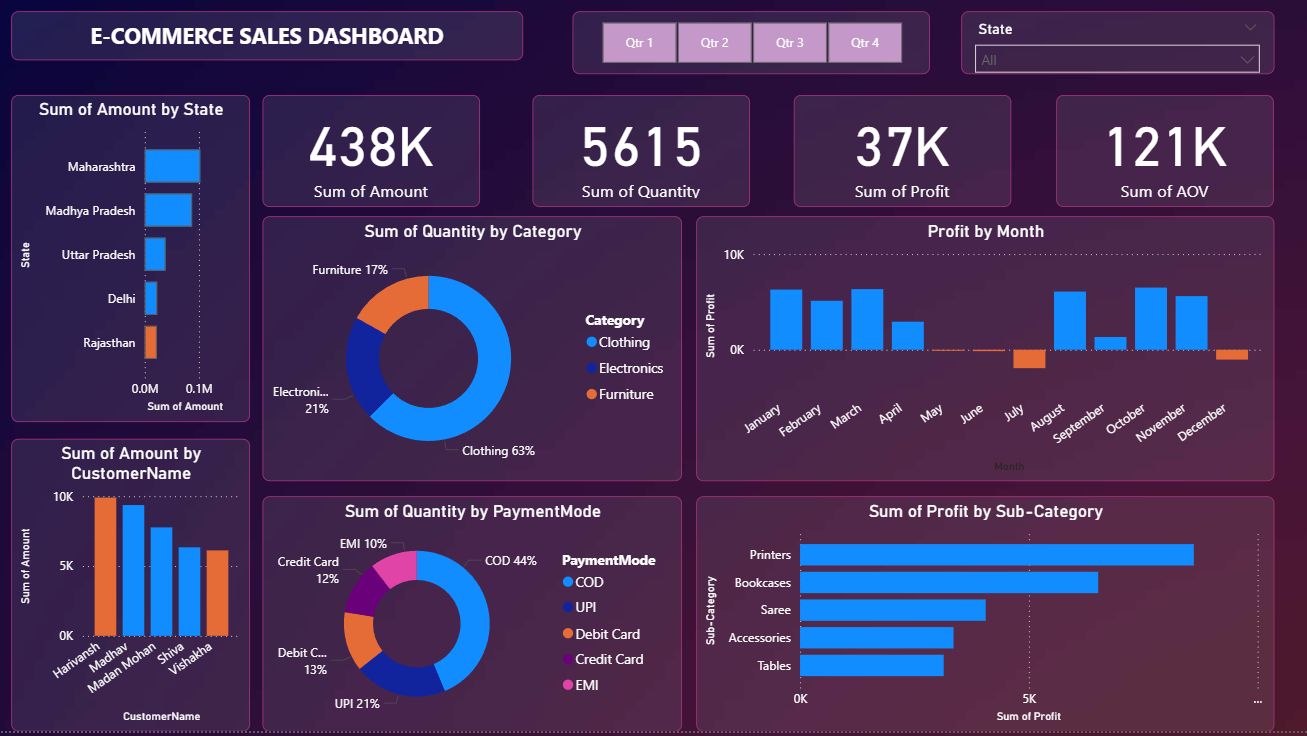

What the dashboard file says about the page in this screenshot:
{"tool":"powerbi","page":{"name":"Page 1","canvas":[1280,720],"ordinal":0},"visuals":[{"type":"textbox","box":[11,16.5,500.9,48],"z":0},{"type":"columnChart","title":"Profit by Month","fields":{"Category":["Orders.Order Date.Variation.Date Hierarchy.Month"],"Y":["Details.Profit"]},"box":[680.6,216.8,565.4,259.3],"z":1000},{"type":"barChart","fields":{"Category":["Details.Sub-Category"],"Y":["Details.Profit"]},"box":[680.6,489.9,565.4,230.5],"z":2000},{"type":"donutChart","fields":{"Y":["Details.Quantity"],"Category":["Details.PaymentMode"]},"box":[256.6,489.9,410.3,230.5],"z":3000},{"type":"donutChart","fields":{"Y":["Details.Quantity"],"Category":["Details.Category"]},"box":[256.6,216.8,410.3,259.3],"z":4000},{"type":"card","fields":{"Values":["Details.Quantity"]},"box":[521.4,97.4,212.7,109.8],"z":5000},{"type":"card","fields":{"Values":["Details.Profit"]},"box":[776.7,97.4,212.7,109.8],"z":6000},{"type":"card","fields":{"Values":["Details.Amount"]},"box":[256.6,97.4,212.7,109.8],"z":7000},{"type":"card","fields":{"Values":["Details.AOV"]},"box":[1033.3,97.4,212.7,109.8],"z":8000},{"type":"barChart","fields":{"Category":["Orders.State"],"Y":["Details.Amount"]},"box":[11,97.4,233.3,319.7],"z":9000},{"type":"columnChart","fields":{"Category":["Orders.CustomerName"],"Y":["Details.Amount"]},"box":[11,433.6,233.3,286.8],"z":10000},{"type":"slicer","fields":{"Values":["Orders.Order Date.Variation.Date Hierarchy.Quarter"]},"box":[559.9,16.5,349.9,61.7],"z":11000},{"type":"slicer","fields":{"Values":["Orders.State"]},"box":[940,16.5,306,61.7],"z":12000}]}

Visuals, with their boxes in screenshot pixels (x1, y1, x2, y2), scaled from the page's 1280x720 canvas onto the 1307x736 screenshot:
textbox: (x1=11, y1=17, x2=523, y2=66)
"Profit by Month" columnChart: (x1=695, y1=222, x2=1272, y2=487)
barChart - Details.Sub-Category x Details.Profit: (x1=695, y1=501, x2=1272, y2=735)
donutChart - Details.Quantity x Details.PaymentMode: (x1=262, y1=501, x2=681, y2=735)
donutChart - Details.Quantity x Details.Category: (x1=262, y1=222, x2=681, y2=487)
card - Details.Quantity: (x1=532, y1=100, x2=750, y2=212)
card - Details.Profit: (x1=793, y1=100, x2=1010, y2=212)
card - Details.Amount: (x1=262, y1=100, x2=479, y2=212)
card - Details.AOV: (x1=1055, y1=100, x2=1272, y2=212)
barChart - Orders.State x Details.Amount: (x1=11, y1=100, x2=249, y2=426)
columnChart - Orders.CustomerName x Details.Amount: (x1=11, y1=443, x2=249, y2=735)
slicer - Orders.Order Date.Variation.Date Hierarchy.Quarter: (x1=572, y1=17, x2=929, y2=80)
slicer - Orders.State: (x1=960, y1=17, x2=1272, y2=80)
